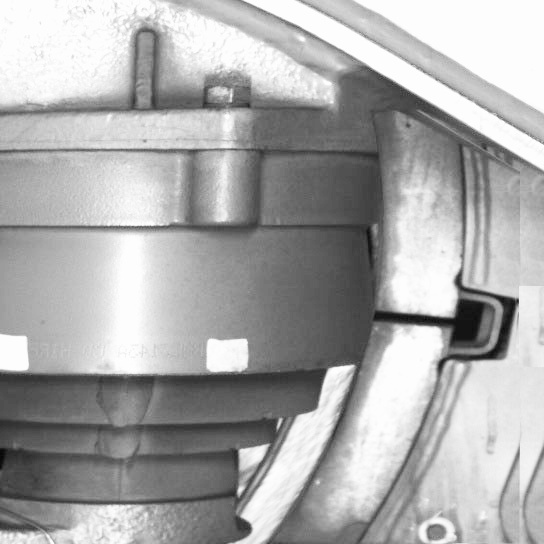ClosedKnifeSwitch: (256, 151, 460, 539)
